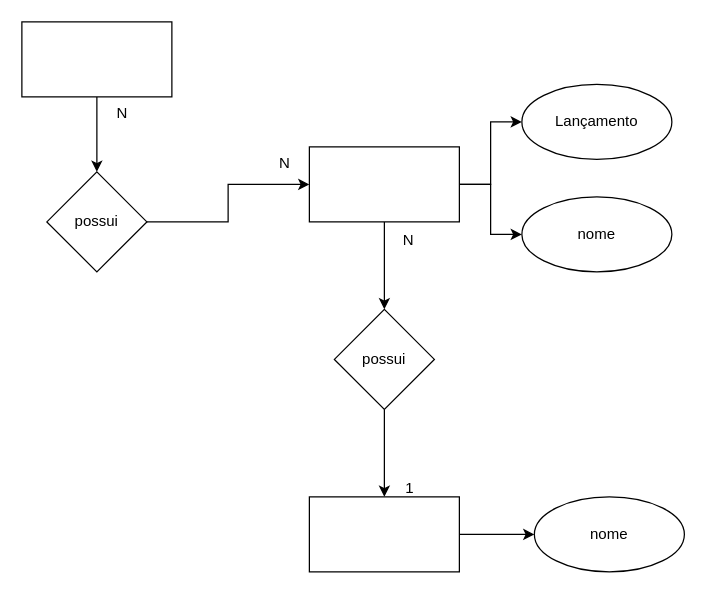
The diagram is 706 pixels wide and 594 high, and some of its shapes have lost their labels. Here are the shapes that lost their labels. From the top down, the box of each, then its label:
(21, 21, 172, 97): Catalogo
(308, 146, 459, 222): Filme
(308, 496, 459, 572): genero
